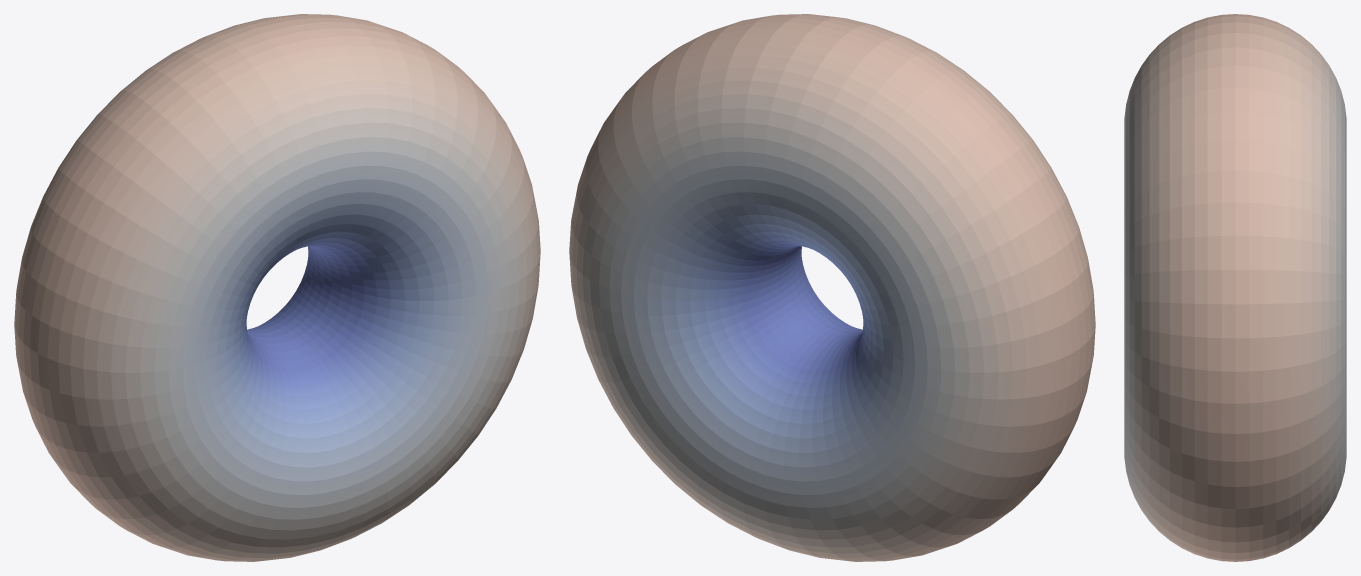
3 renders of one model, left to right at view 1: azimuth 30°, elevation 25°; view 2: azimuth 150°, elevation 25°; view 3: azimuth 270°, elevation 25°, orthographic. The views are drawn at different scales.
Visible parts, largest first — view 1: world; view 2: world; view 3: world.
Boxes of the visible parts, bbox=[...] form: world: bbox=[14, 14, 540, 561]; world: bbox=[569, 14, 1095, 561]; world: bbox=[1124, 14, 1346, 561].
Bounding box in the file's own units: 21.33 × 21.29 × 8.65.
